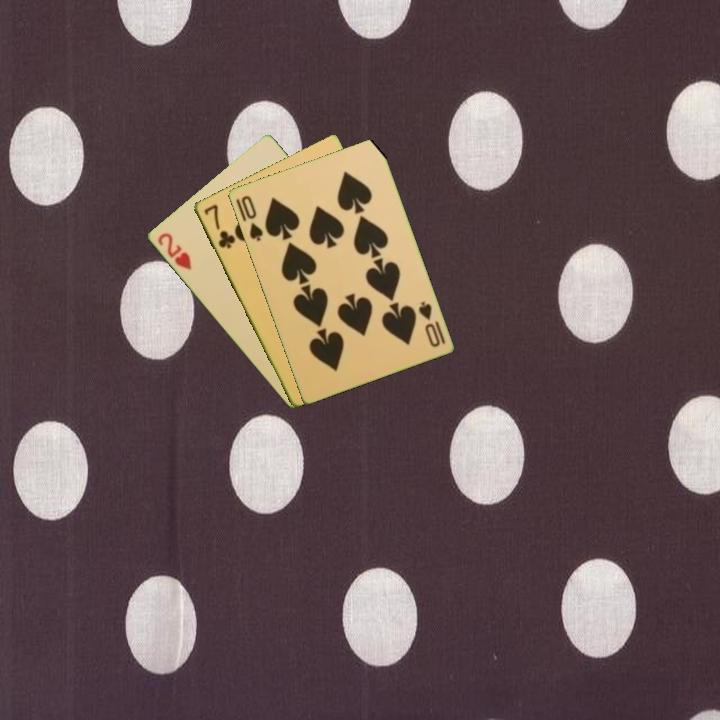10s: (414, 297, 448, 350), (237, 192, 266, 244)
2h: (154, 229, 194, 273)
7c: (200, 201, 238, 251)
